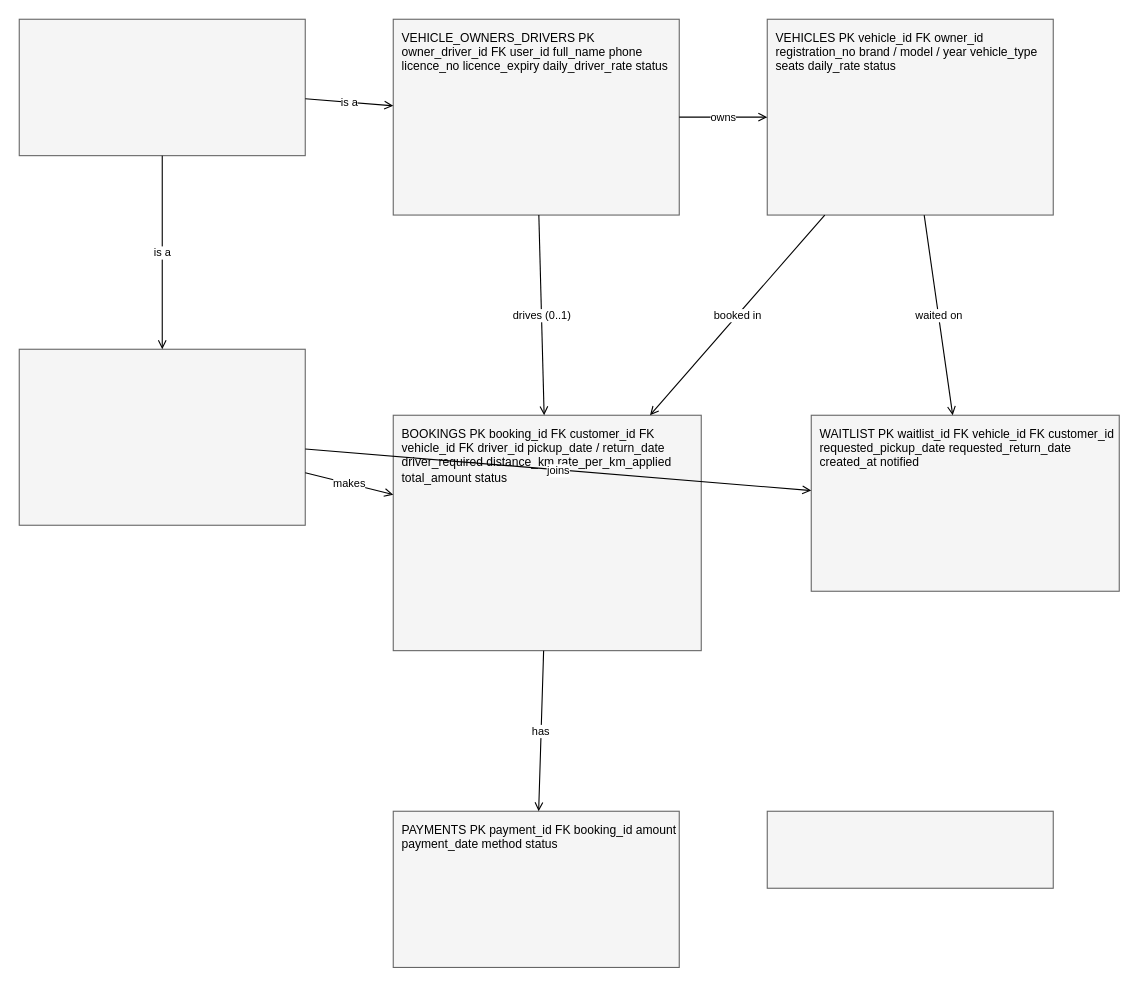
Some shapes in this 1139 by 987 pixel diagram are drawn without their labels. The box of each missing label's shape, as (x1, y1, x2, y2) in pixels:
CUSTOMERS PK customer_id FK user_id full_name phone email address licence_no: (18, 348, 305, 525)
SETTINGS PK key value: (766, 810, 1053, 888)
USERS PK user_id username password_hash role status: (18, 18, 305, 156)
